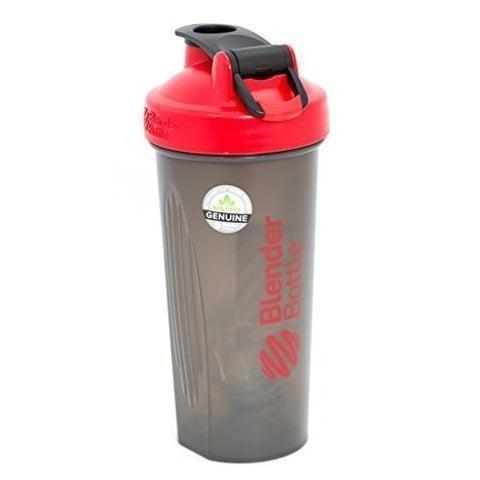gym bottle: (142, 19, 331, 467)
